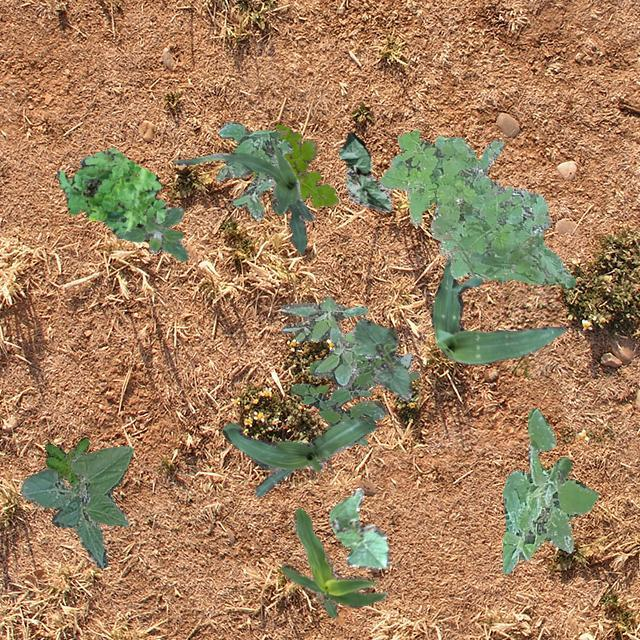crop: (172, 136, 312, 252), (430, 256, 566, 364), (21, 444, 132, 568), (222, 416, 376, 496), (280, 508, 386, 616), (350, 316, 410, 399), (328, 487, 388, 568), (338, 132, 392, 210)
weed: (378, 128, 574, 288), (502, 408, 598, 572), (290, 330, 418, 444), (56, 148, 166, 232), (280, 294, 378, 388), (215, 120, 292, 220), (252, 124, 338, 205), (116, 206, 188, 260), (44, 436, 89, 486)
